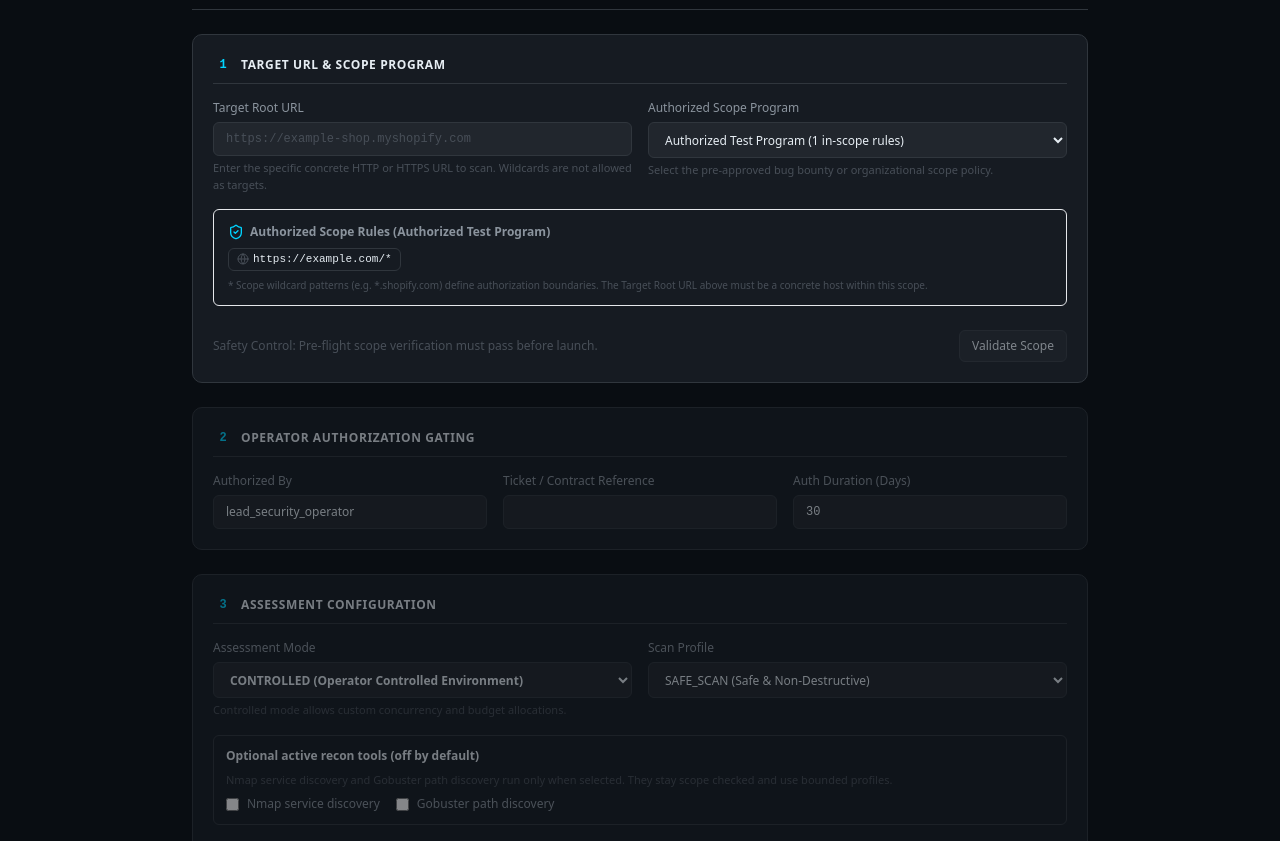
Scenario: Scope UI Safety Tests (Section 24) › rejects wildcard input and blocks launch without sending valid request
In the field with placeholder "https://example-shop.myshopify.com": (422, 139) [213,122,632,156], type "*.example.com"
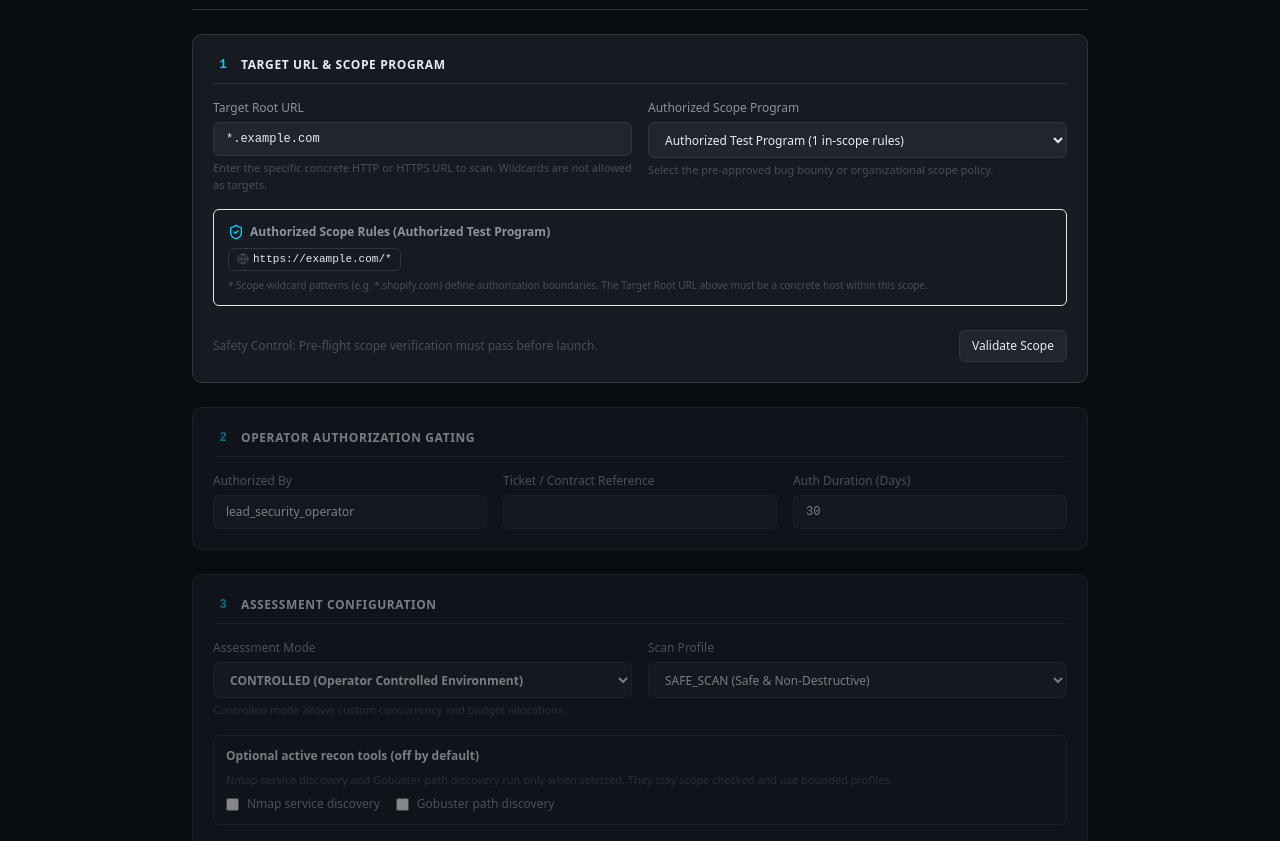
Click the button "Validate Scope": (1013, 346) [959,330,1067,362]
(page scrolled)
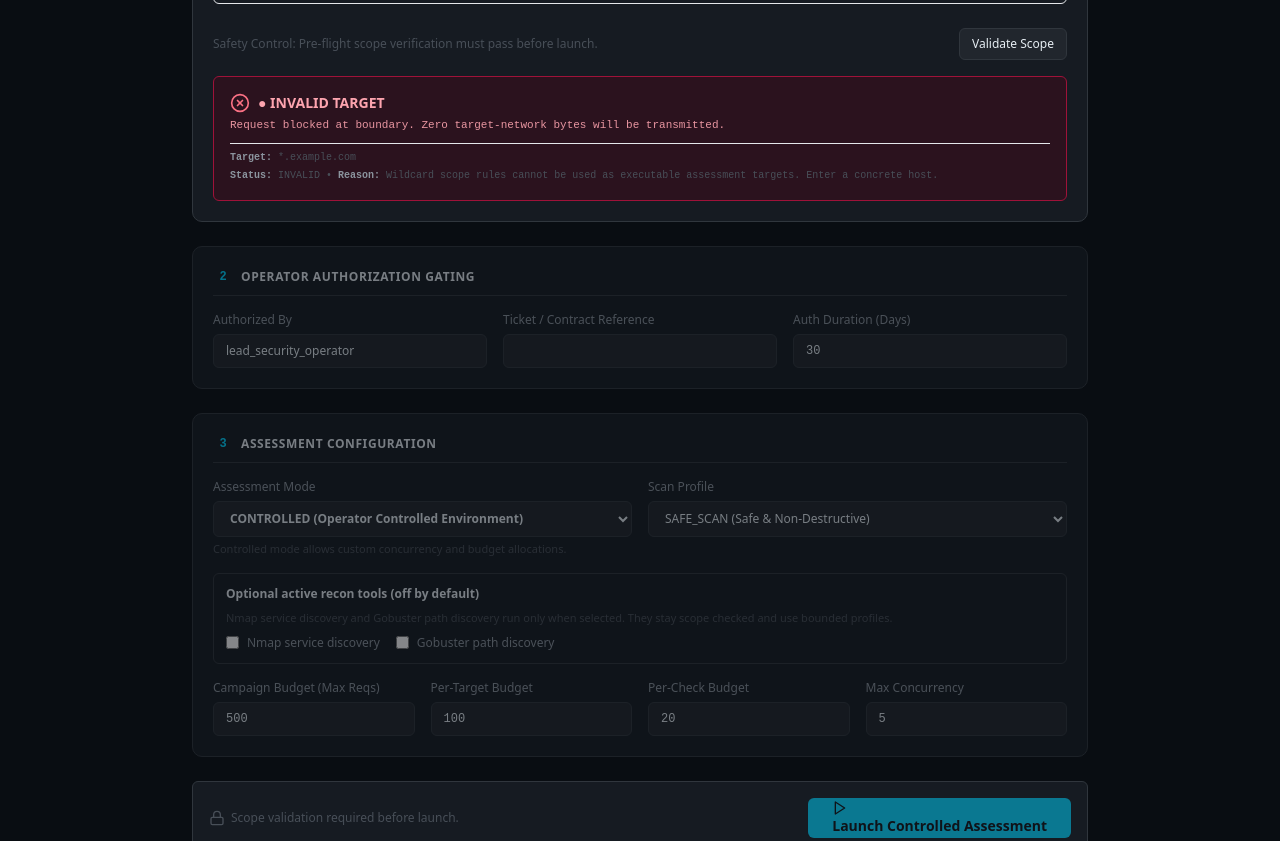
Expected: the button "Launch Controlled Assessment" is disabled, [808,798,1071,838]
Expected: the text "● INVALID TARGET" is shown, [258,93,385,113]
